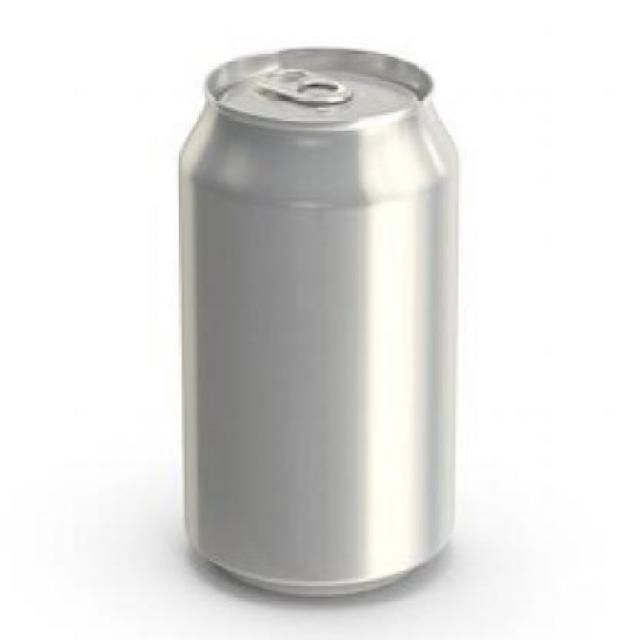can: (135, 40, 491, 606)
